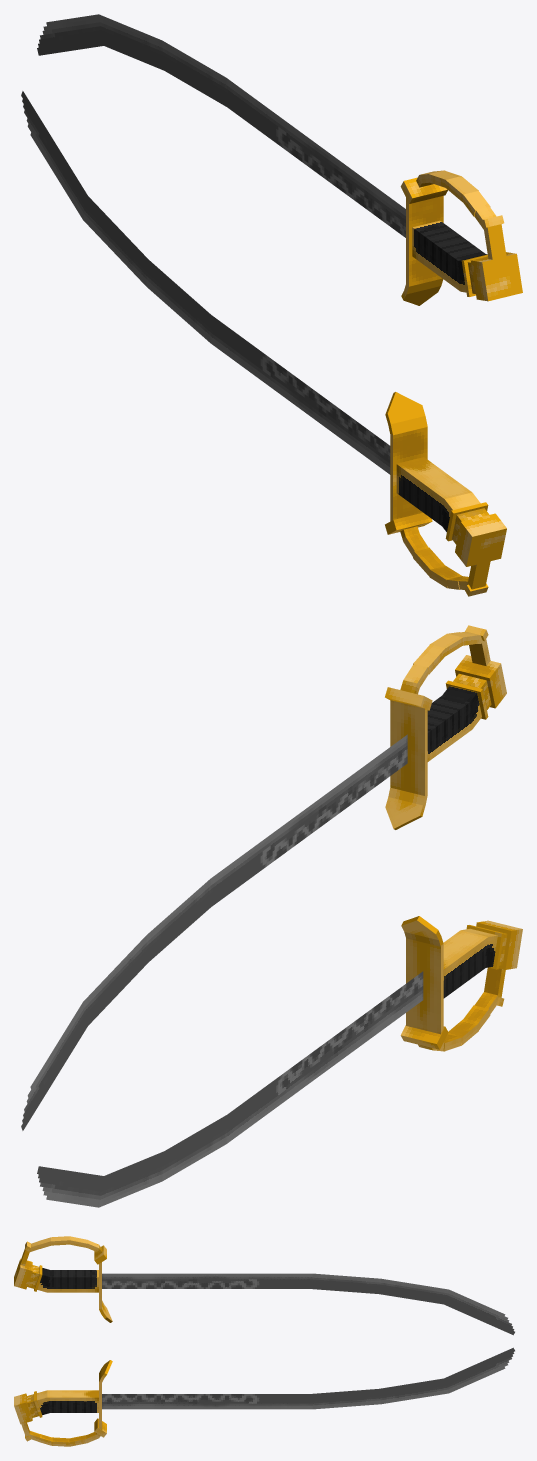
File: saber.glb
The picture shows the model from 3 angles, top to bottom: view 1: azimuth 30°, elevation 25°; view 2: azimuth 150°, elevation 25°; view 3: azimuth 270°, elevation 25°; orthographic projection. The views are drawn at different scales.
Visible parts, largest first — view 1: main__Tool_R, off__Tool_L; view 2: off__Tool_L, main__Tool_R; view 3: main__Tool_R, off__Tool_L.
Boxes of the visible parts, <box> form: main__Tool_R: <box>21,91,506,596</box>; off__Tool_L: <box>37,14,522,305</box>; off__Tool_L: <box>21,625,506,1130</box>; main__Tool_R: <box>37,916,522,1207</box>; main__Tool_R: <box>14,1347,514,1446</box>; off__Tool_L: <box>14,1236,514,1335</box>.
Size of the model in its own units: 0.1637 by 1.18 by 2.59.
1 material, 1 textured.
